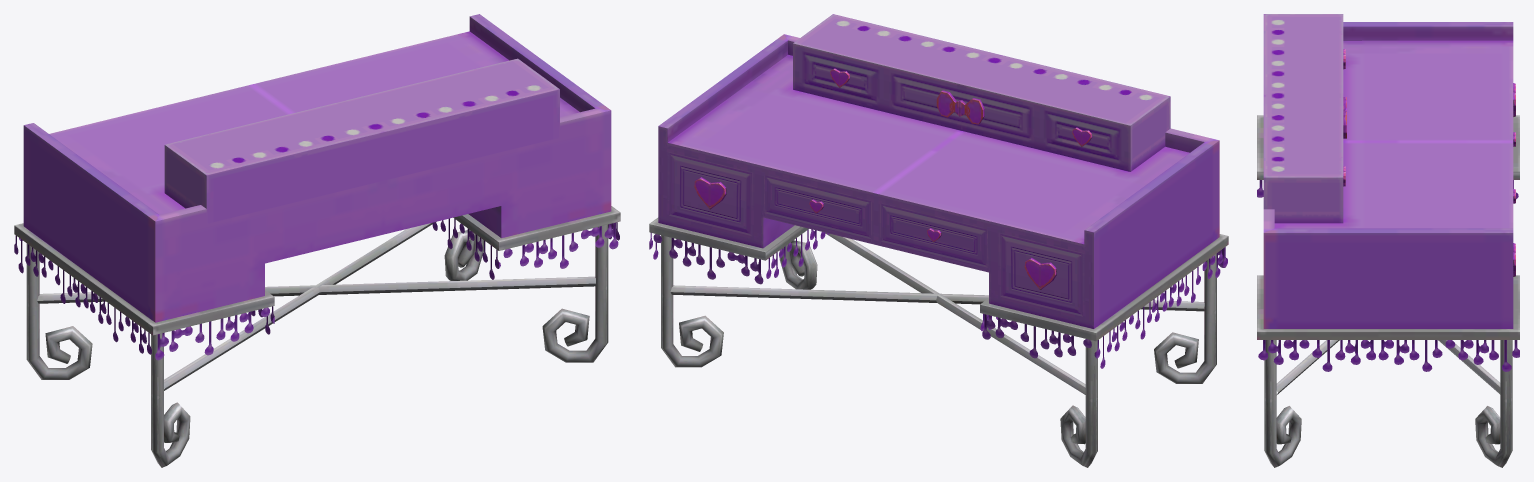
File: furni_0200025_01.FBX
3 renders of one model, left to right at view 1: azimuth 30°, elevation 25°; view 2: azimuth 150°, elevation 25°; view 3: azimuth 270°, elevation 25°, orthographic. The views are drawn at different scales.
Visible parts, largest first — view 1: furni_0200025_01; view 2: furni_0200025_01; view 3: furni_0200025_01.
Boxes of the visible parts, x1=… form: furni_0200025_01: x1=14, y1=14, x2=620, y2=467; furni_0200025_01: x1=649, y1=14, x2=1228, y2=467; furni_0200025_01: x1=1257, y1=14, x2=1519, y2=467.
Size of the model in its own units: 164 by 96.29 by 84.24.
